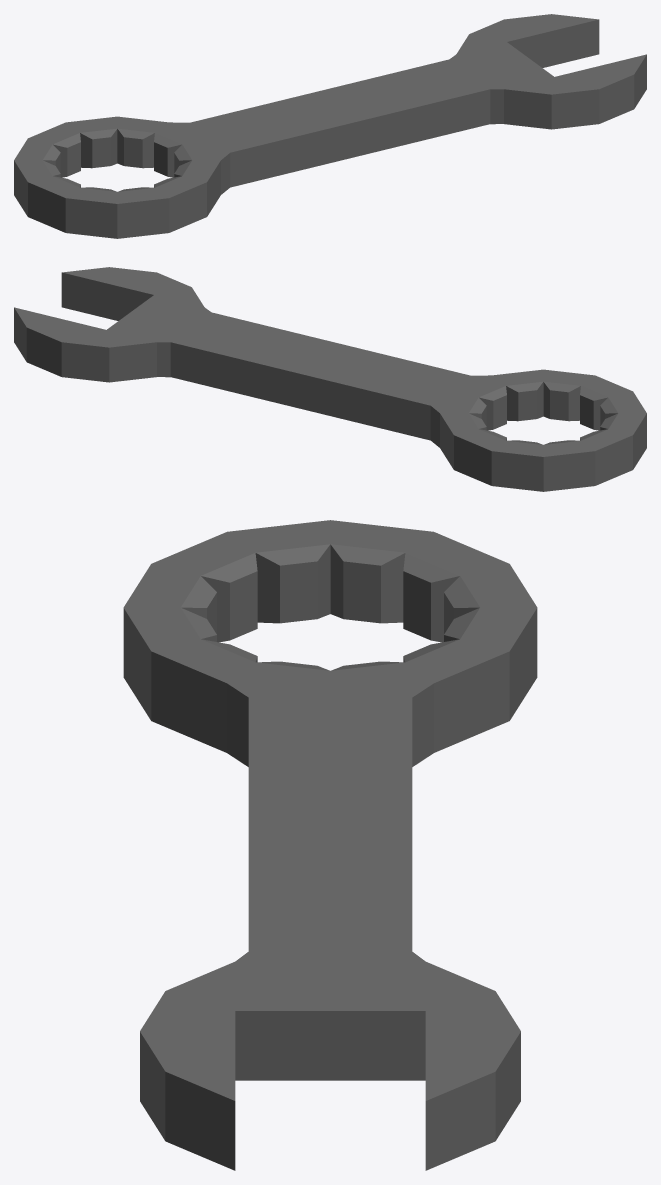
File: Wrench_Cylinder.FBX
3 renders of one model, top to bottom at view 1: azimuth 30°, elevation 25°; view 2: azimuth 150°, elevation 25°; view 3: azimuth 270°, elevation 25°, orthographic. The views are drawn at different scales.
Visible parts, largest first — view 1: Wrench_Cylinder; view 2: Wrench_Cylinder; view 3: Wrench_Cylinder.
Boxes of the visible parts, left/top/right/bottom form: Wrench_Cylinder: left=14, top=14, right=646, bottom=238; Wrench_Cylinder: left=14, top=267, right=646, bottom=491; Wrench_Cylinder: left=123, top=520, right=537, bottom=1170.
Bounding box in the file's own units: 123 × 36.89 × 6.86.
